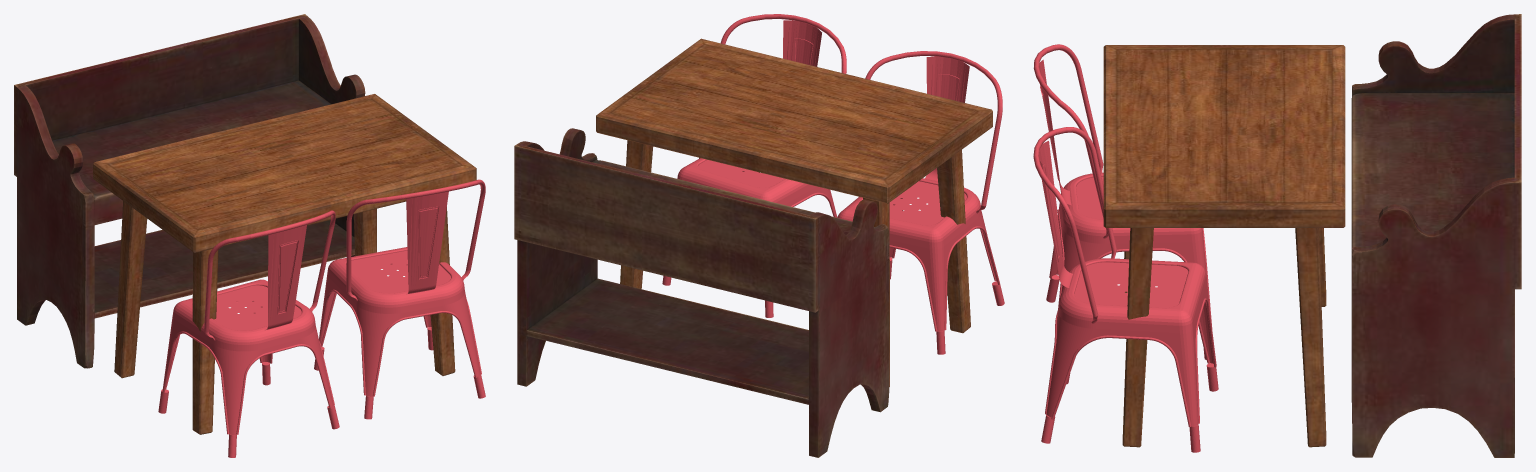
Rendered from bench_table_4.glb.
3 renders of one model, left to right at view 1: azimuth 30°, elevation 25°; view 2: azimuth 150°, elevation 25°; view 3: azimuth 270°, elevation 25°, orthographic. The views are drawn at different scales.
Visible parts, largest first — view 1: painted_wooden_bench_0_n0, wooden_table_02_0_n1, tolix_chair_0_n3, tolix_chair_0_n2; view 2: painted_wooden_bench_0_n0, wooden_table_02_0_n1, tolix_chair_0_n2, tolix_chair_0_n3; view 3: painted_wooden_bench_0_n0, wooden_table_02_0_n1, tolix_chair_0_n3, tolix_chair_0_n2.
Part boxes in pixels (x1,y1,x2,y2): painted_wooden_bench_0_n0: (14,14,365,368); wooden_table_02_0_n1: (93,94,476,434); tolix_chair_0_n3: (314,179,485,419); tolix_chair_0_n2: (158,210,339,457); painted_wooden_bench_0_n0: (514,128,889,457); wooden_table_02_0_n1: (596,38,992,386); tolix_chair_0_n2: (837,51,1004,354); tolix_chair_0_n3: (662,14,846,317); painted_wooden_bench_0_n0: (1351,14,1521,457); wooden_table_02_0_n1: (1103,45,1345,447); tolix_chair_0_n3: (1033,127,1218,452); tolix_chair_0_n2: (1033,44,1212,359).
Bounding box in the file's own units: 1.16 × 0.8893 × 1.43.
Materials: 3 (2 with a texture image).
